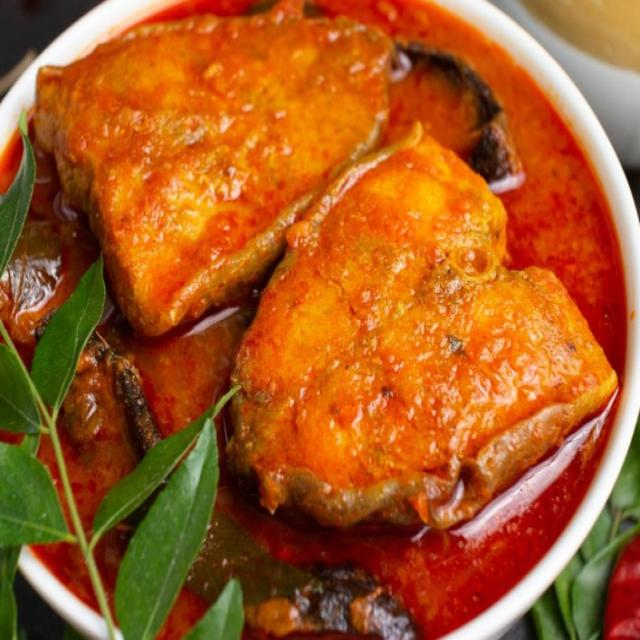FISH CURRY: (0, 0, 626, 639)
